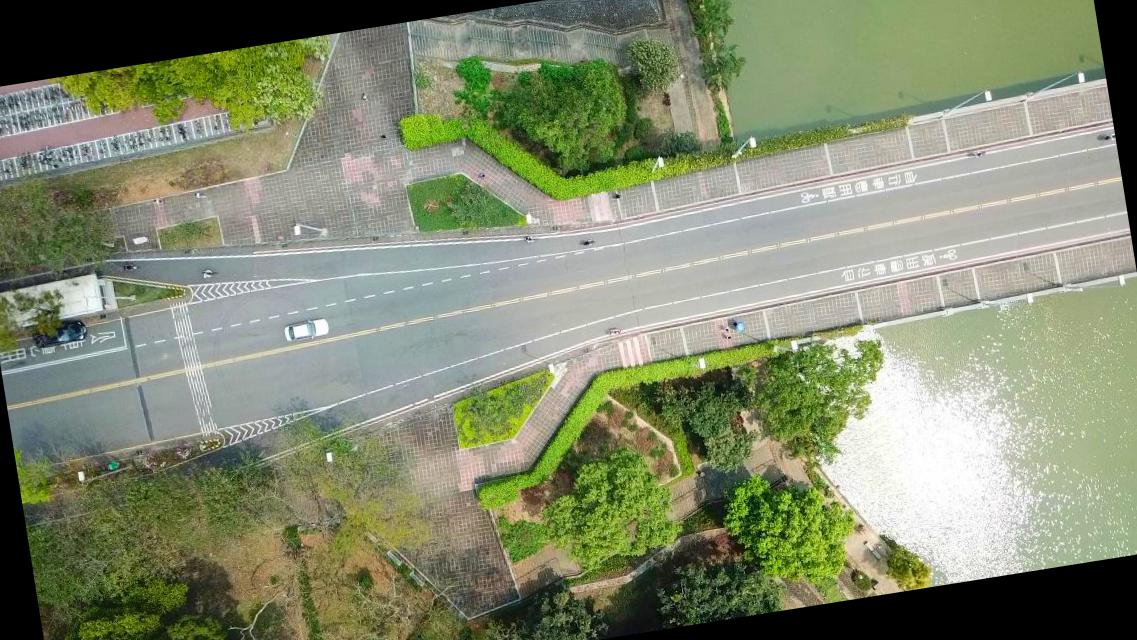vehicle: (30, 316, 88, 349), (283, 316, 330, 344)
